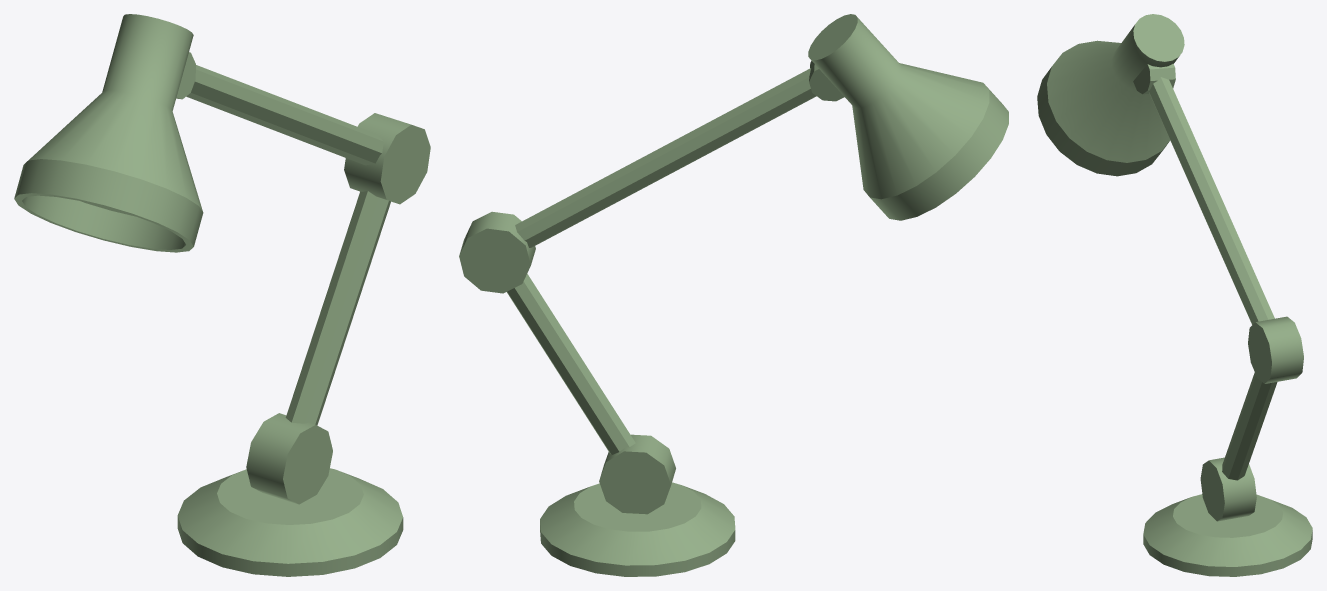
The model's file is Lamp.fbx.
The picture shows the model from 3 angles, left to right: view 1: azimuth 30°, elevation 25°; view 2: azimuth 150°, elevation 25°; view 3: azimuth 270°, elevation 25°; orthographic projection. The views are drawn at different scales.
Parts seen in each view (by area): view 1: Lamp; view 2: Lamp; view 3: Lamp.
Part boxes in pixels (x1,y1,x2,y2): Lamp: [14, 14, 430, 576]; Lamp: [459, 14, 1008, 576]; Lamp: [1037, 14, 1312, 576].
Bounding box in the file's own units: 53.65 × 60.68 × 33.44.
